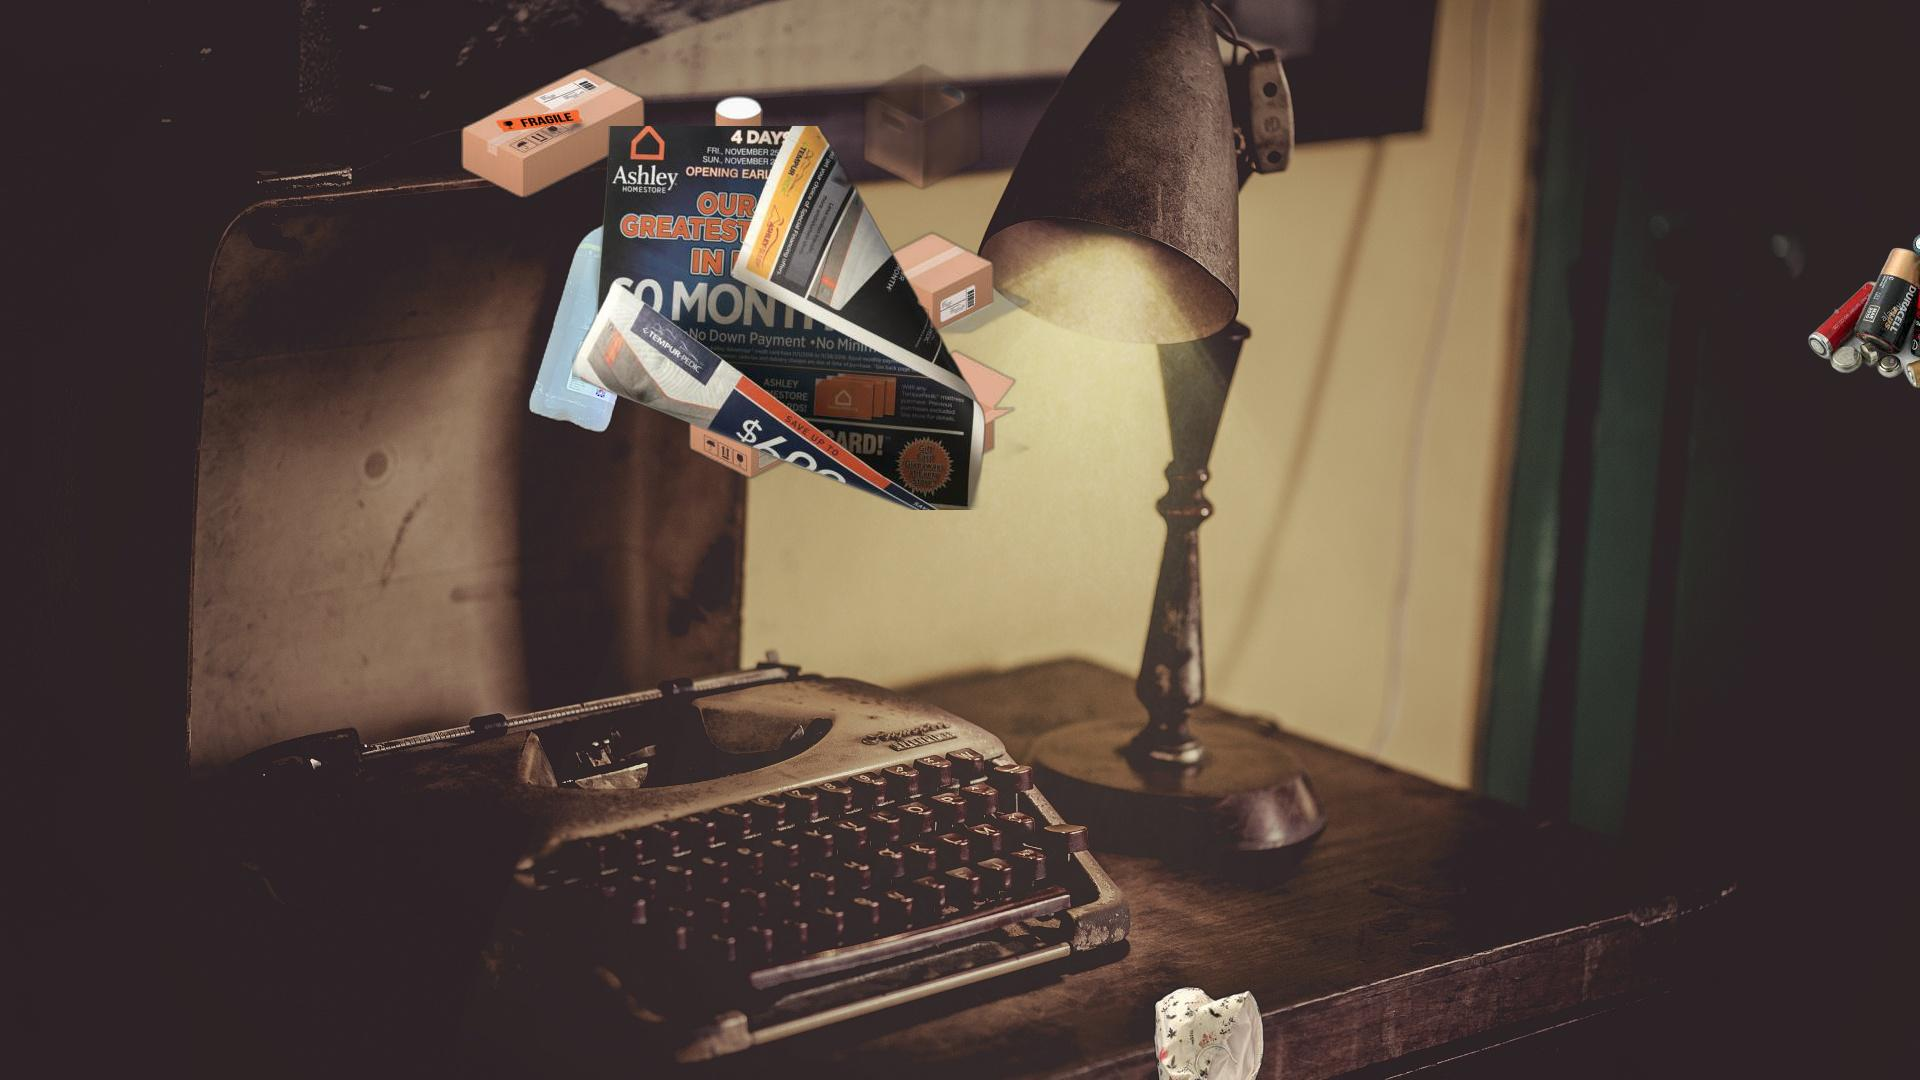battery: (1805, 231, 1920, 392)
clothes: (1031, 982, 1361, 1080)
glass: (961, 874, 1443, 1080)
paper: (572, 127, 990, 510)
plastic-bottles: (524, 207, 659, 439)
trashbox-cardboard: (456, 61, 1033, 484)
